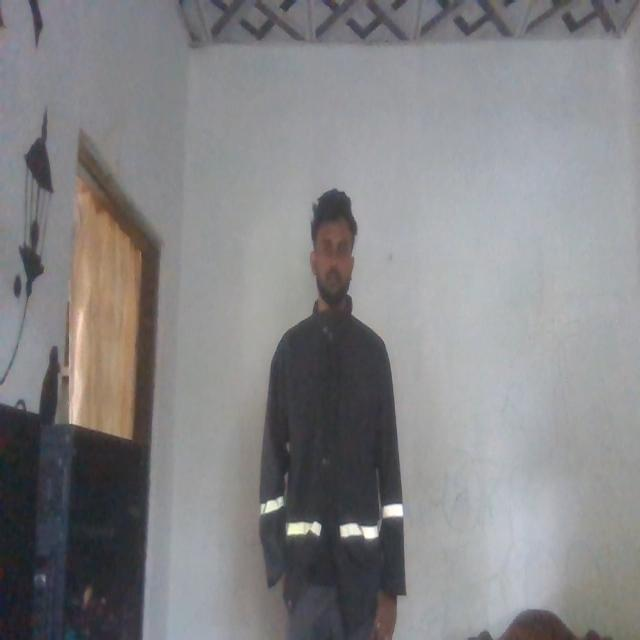Jacket_Wearer: (240, 296, 406, 606)
Person: (240, 174, 410, 640)
